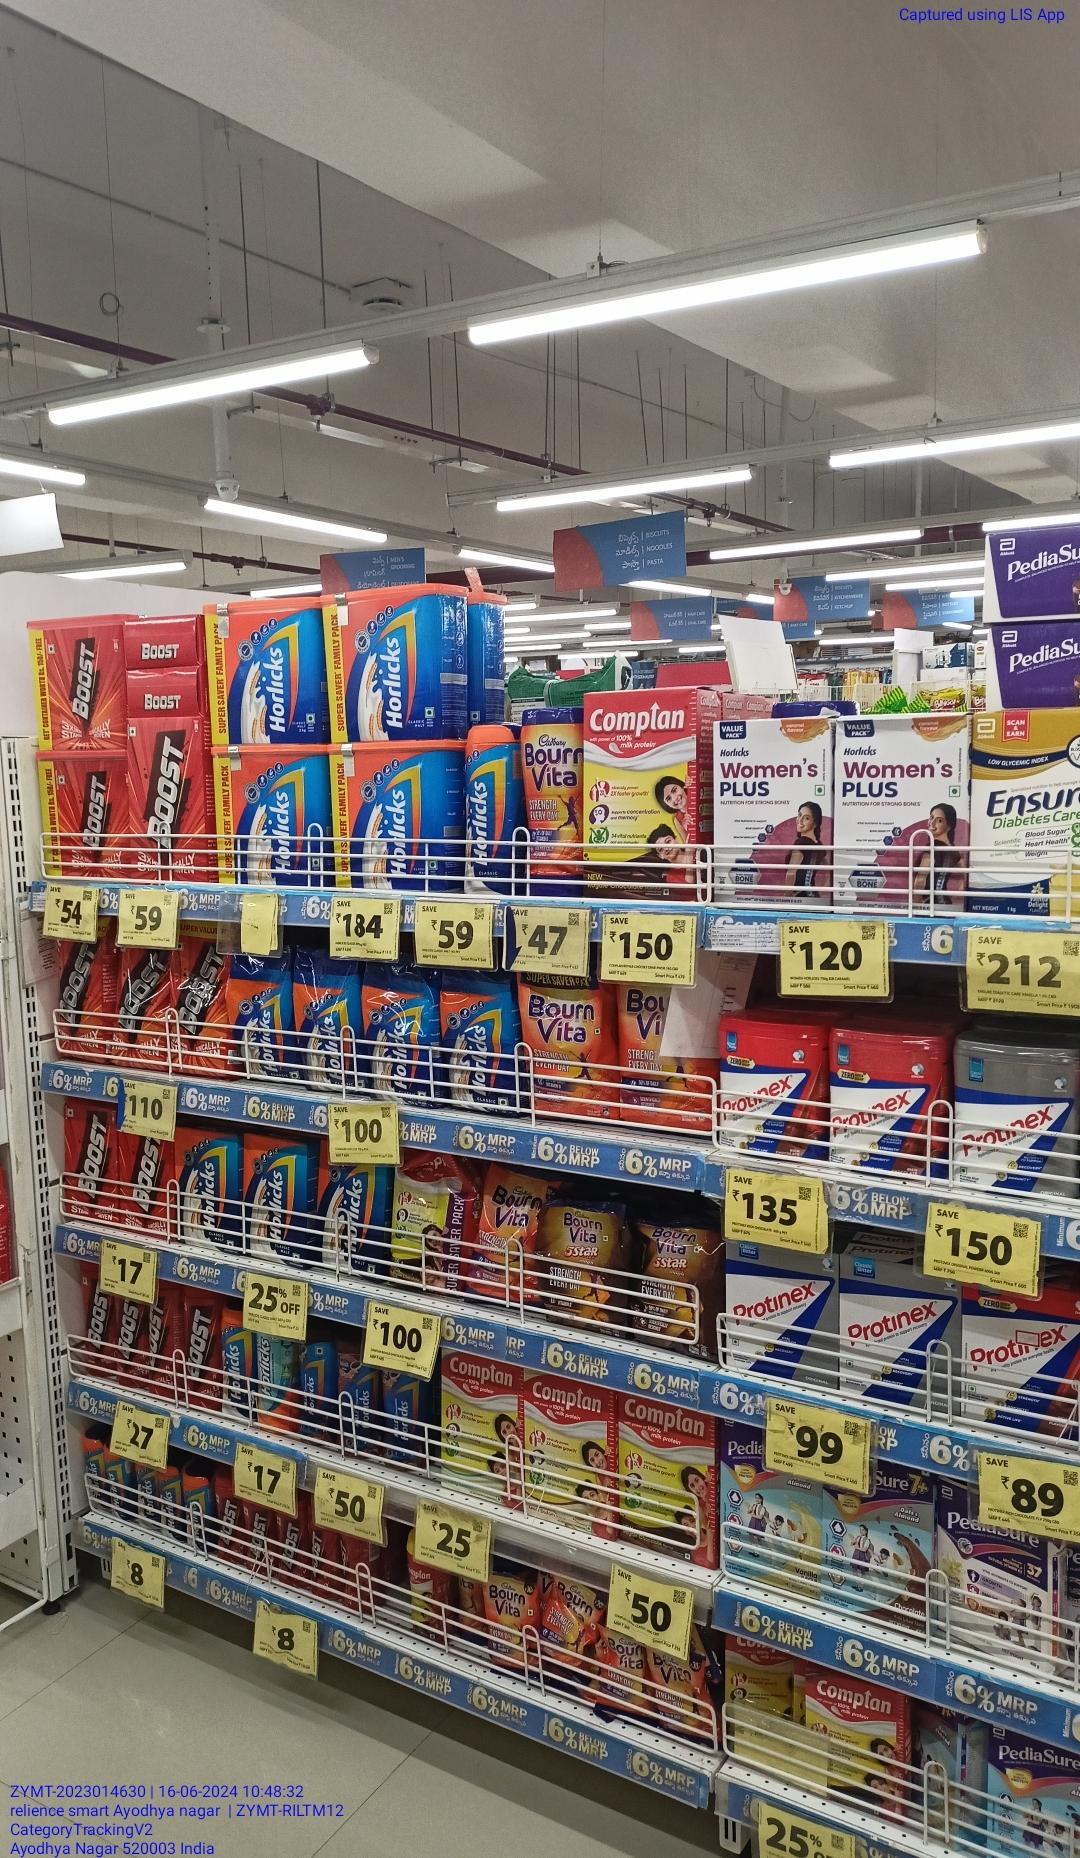HORLICKS_LITE_REGULAR_MALT_500_GM_JAR: (253, 1335, 296, 1432)
HORLICK_CLASSIC_MALT_500_G_JAR: (464, 721, 522, 900)
HORLICK_CLASSIC_MALT_500_G_PACK: (244, 1137, 315, 1260), (316, 1166, 383, 1270), (181, 1132, 238, 1247)
HORLICK_MALT_1_KG_CONTAINER: (325, 593, 463, 726), (330, 742, 456, 887), (212, 744, 332, 887), (206, 606, 330, 739)
PEDIASURE_7_PLUS_CHOCOLATE_400_G_PACK: (824, 1472, 937, 1614)
